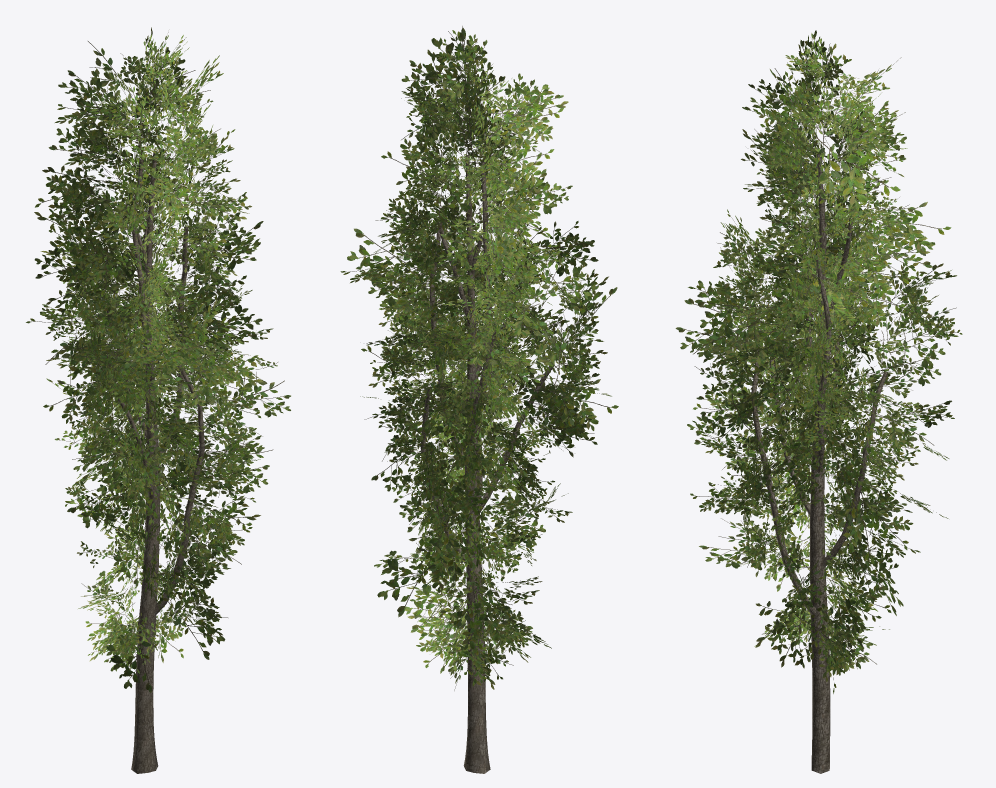
The model's file is tree_poplar_v0_l0.glb.
3 views of the same model, side by side, from view 1: azimuth 30°, elevation 25°; view 2: azimuth 150°, elevation 25°; view 3: azimuth 270°, elevation 25° (orthographic).
Visible parts, largest first — view 1: tree_poplar_v0_l0; view 2: tree_poplar_v0_l0; view 3: tree_poplar_v0_l0.
Part boxes in pixels (left/top/right/bottom): tree_poplar_v0_l0: left=26, top=27, right=290, bottom=773; tree_poplar_v0_l0: left=340, top=26, right=618, bottom=773; tree_poplar_v0_l0: left=675, top=30, right=962, bottom=773.
Bounding box in the file's own units: 4.89 × 13.55 × 5.21.
2 materials, 2 textured.
